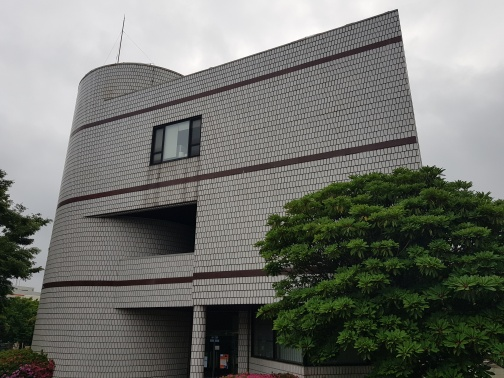Foreign Language Institute: (51, 43, 442, 363)
